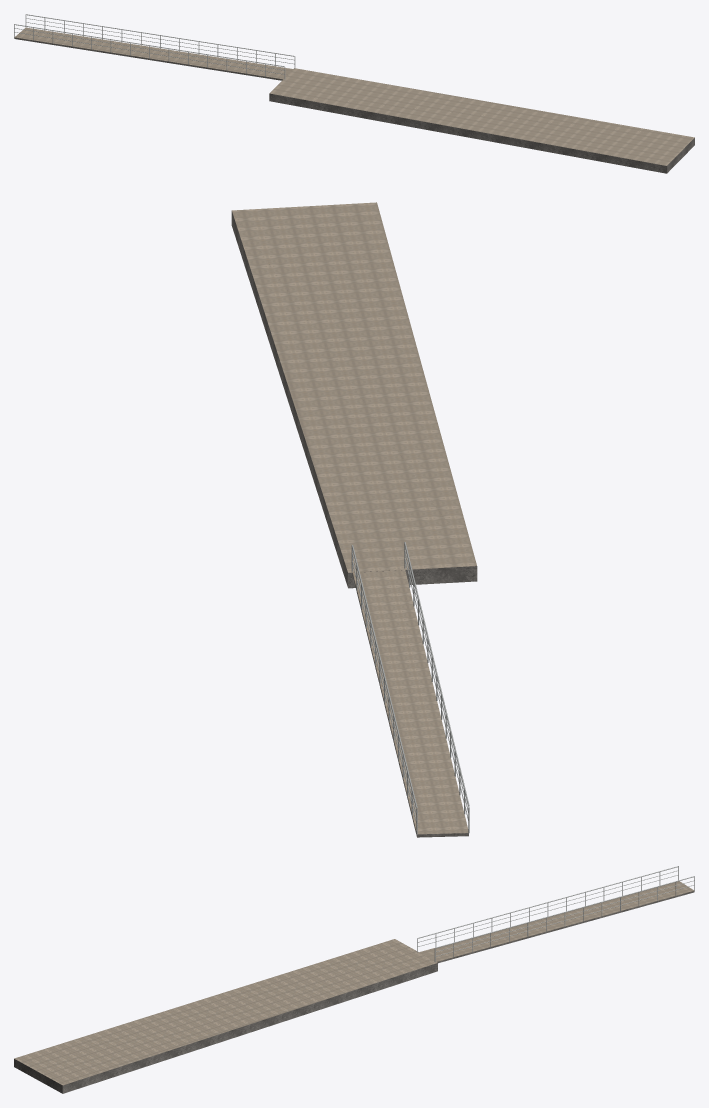
3 views of the same model, one above another, from view 1: azimuth 30°, elevation 25°; view 2: azimuth 150°, elevation 25°; view 3: azimuth 270°, elevation 25° (orthographic). The views are drawn at different scales.
Visible parts, largest first — view 1: Landing wearing course, Exposed deck edge, Waterfront handrails; view 2: Landing wearing course, Exposed deck edge, Waterfront handrails; view 3: Landing wearing course, Exposed deck edge, Waterfront handrails.
Boxes of the visible parts, x1,y1,x2,y2 form: Landing wearing course: (15,27,694,165); Exposed deck edge: (14,37,694,173); Waterfront handrails: (14,14,295,79); Landing wearing course: (232,202,476,834); Exposed deck edge: (231,211,477,837); Waterfront handrails: (351,542,469,834); Landing wearing course: (14,881,693,1085); Exposed deck edge: (14,890,694,1093); Waterfront handrails: (417,866,694,962).
Bounding box in the file's own units: 34.7 × 1.9 × 46.69.
4 materials, 4 textured.
